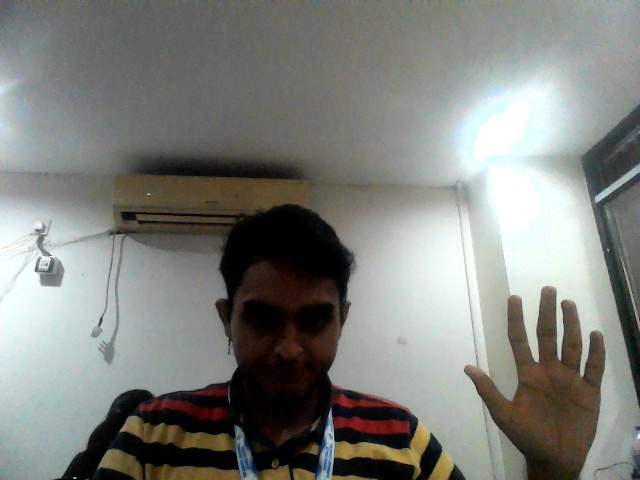palm: (463, 283, 616, 470)
